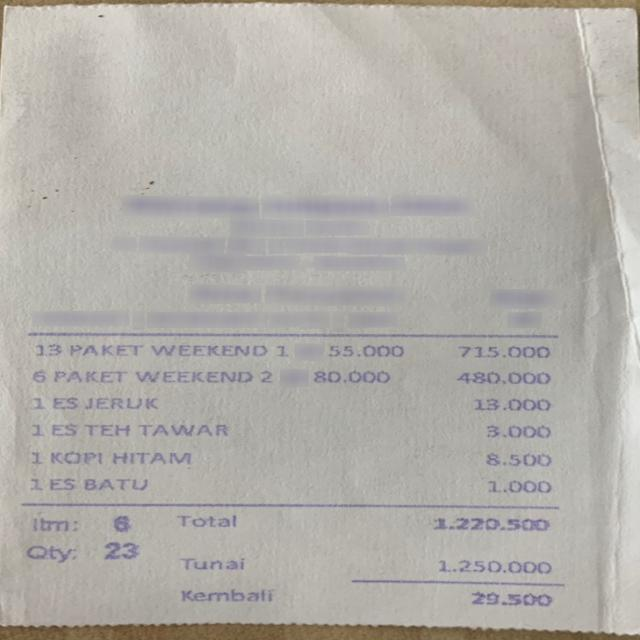text: (437, 558, 551, 573), (434, 516, 548, 530), (150, 344, 265, 356), (470, 590, 551, 606), (134, 371, 251, 382), (180, 588, 271, 601), (455, 370, 548, 382), (457, 346, 548, 358), (312, 368, 389, 382), (84, 396, 158, 410), (22, 543, 75, 562), (137, 424, 227, 435), (52, 369, 127, 382), (112, 451, 190, 463), (473, 398, 550, 410), (327, 344, 402, 356), (486, 452, 550, 466), (58, 450, 110, 466), (486, 424, 549, 437), (487, 479, 549, 492), (70, 344, 142, 355), (82, 478, 146, 490), (179, 556, 242, 568), (100, 541, 139, 559), (176, 514, 234, 526), (32, 517, 76, 530), (83, 424, 129, 435), (50, 422, 76, 437), (48, 477, 75, 491), (52, 396, 78, 409), (36, 343, 61, 354), (112, 515, 128, 531), (31, 422, 44, 437), (27, 478, 41, 490), (32, 396, 44, 409), (31, 370, 45, 381), (30, 450, 41, 464), (260, 370, 270, 382), (276, 345, 284, 355)
